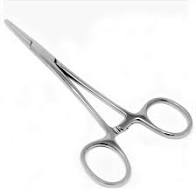mosquito clamp: (2, 16, 193, 189)
